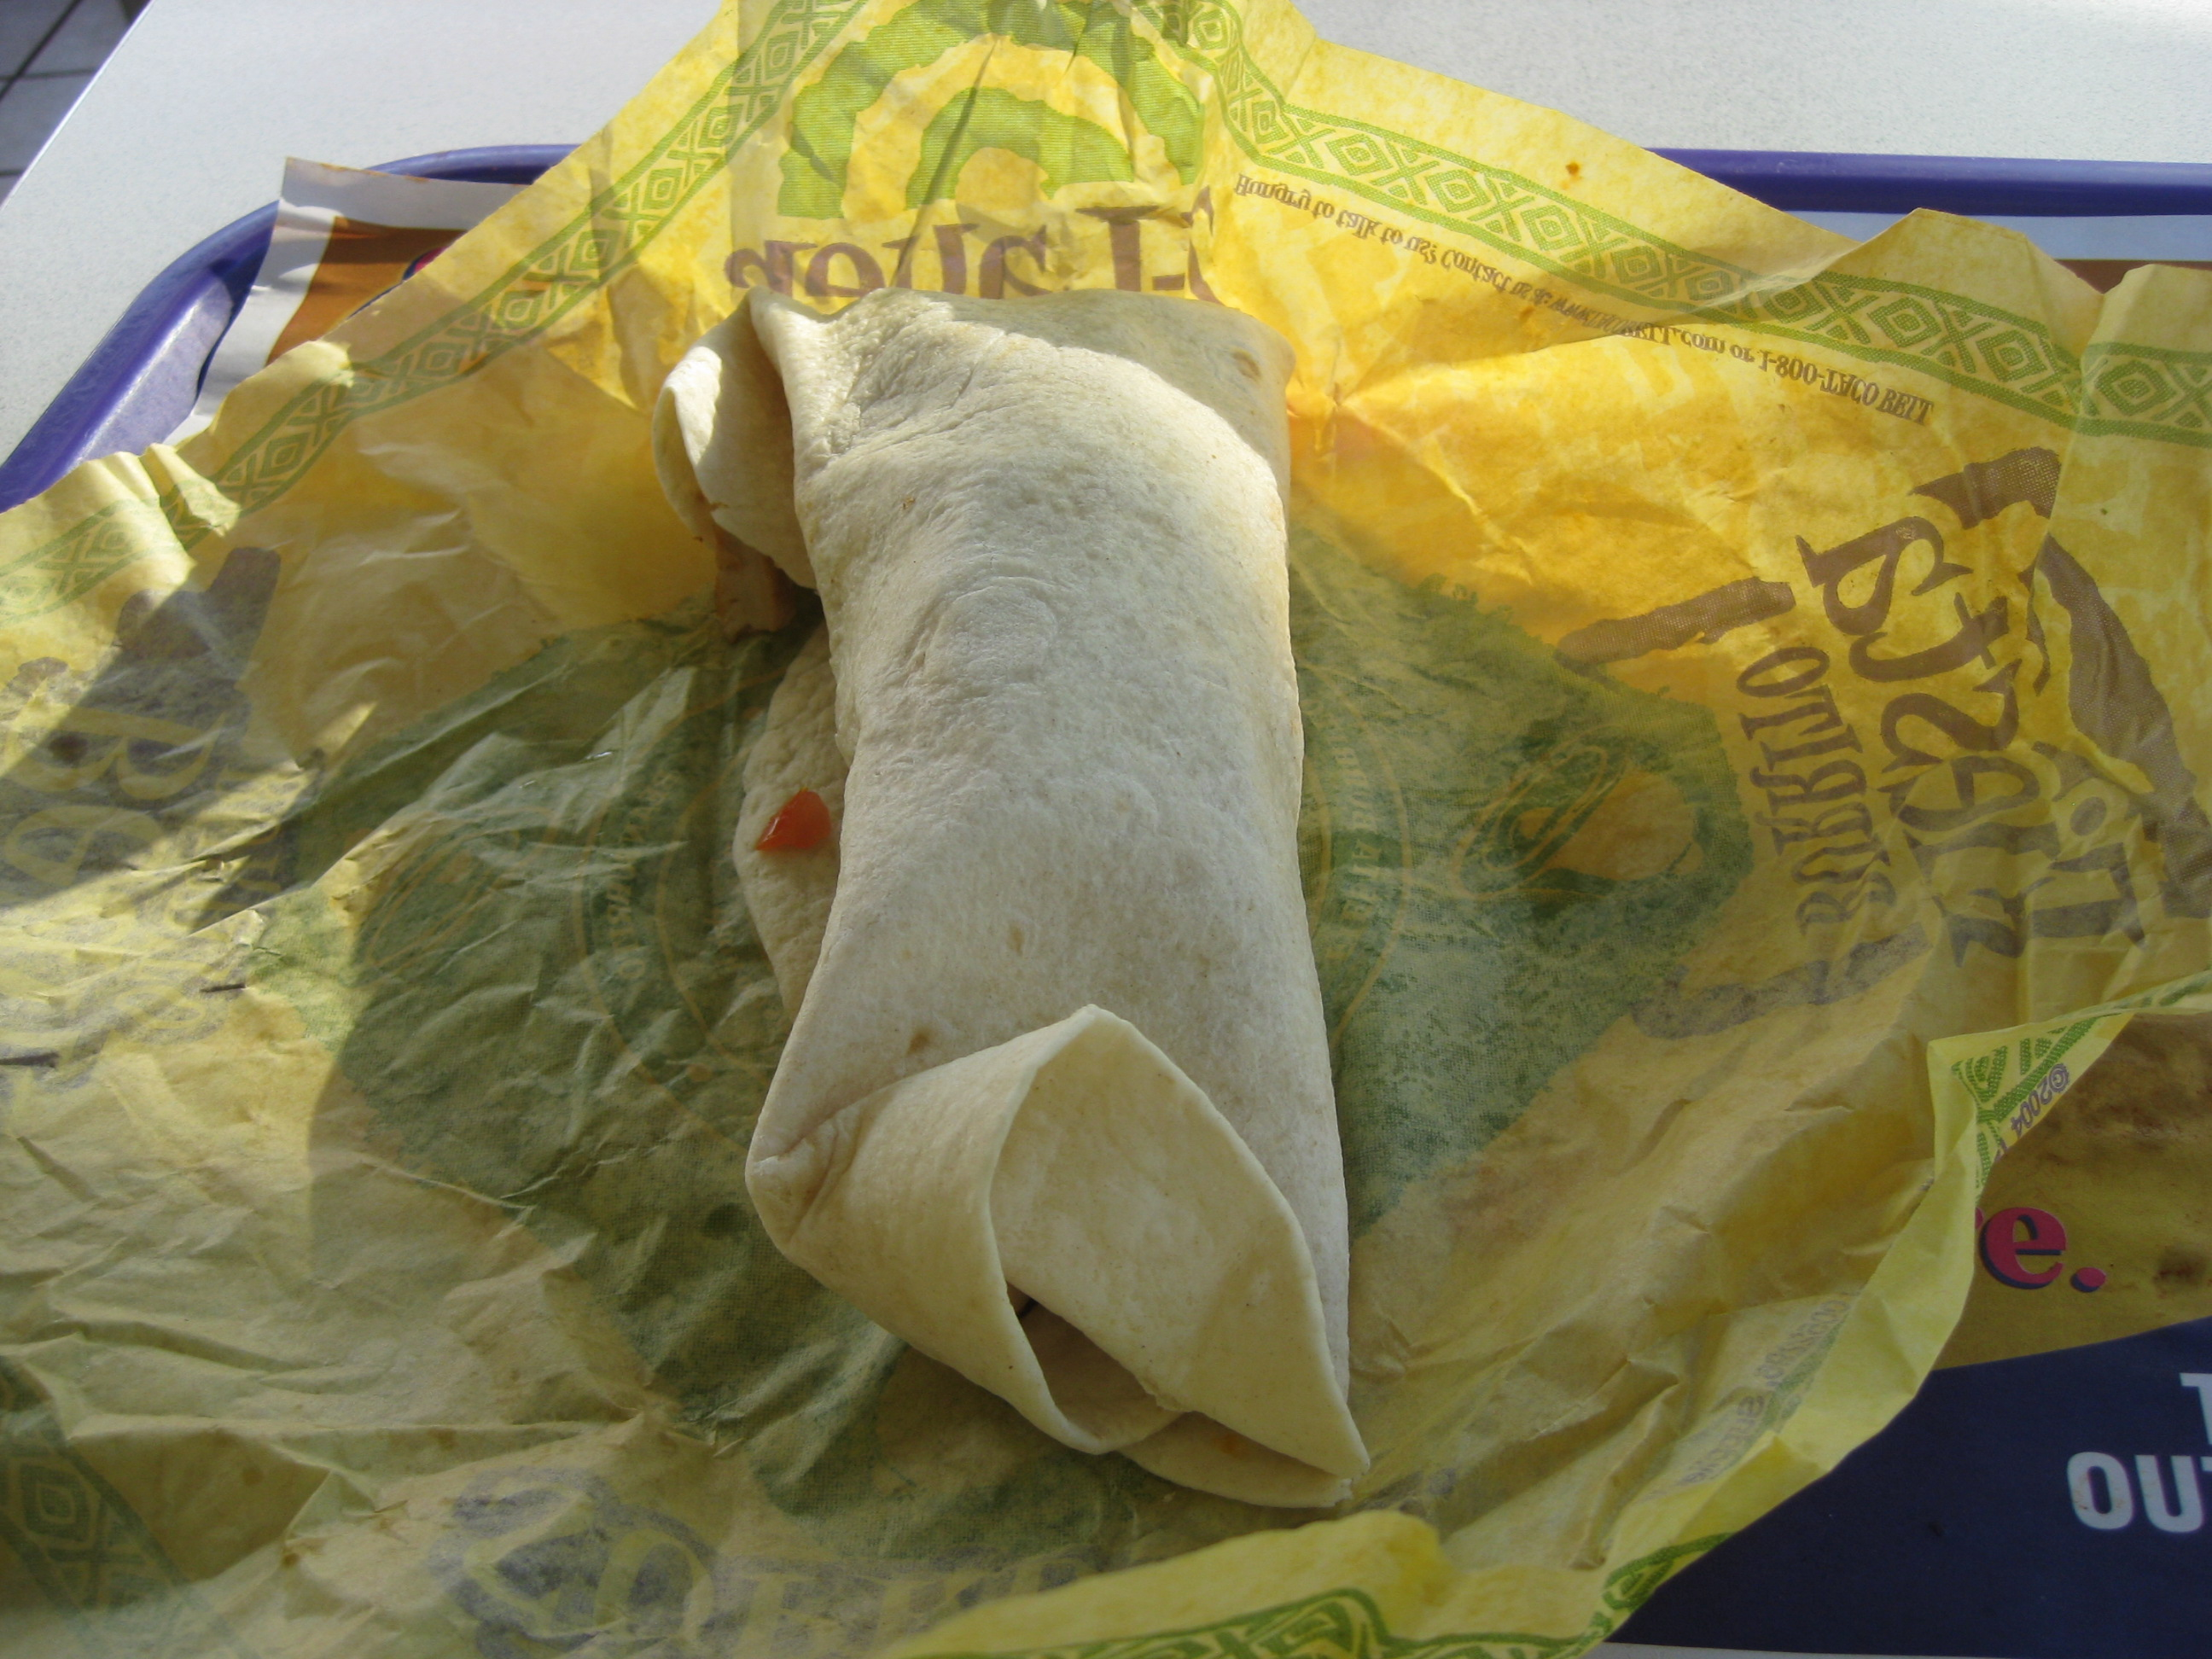burrito: (631, 251, 1480, 1491)
